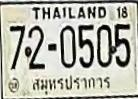0: (96, 24, 113, 67), (59, 24, 75, 68)
2: (25, 24, 45, 69)
5: (77, 24, 94, 67), (114, 23, 130, 66)
7: (9, 25, 25, 69)
SPK: (30, 71, 113, 96)
